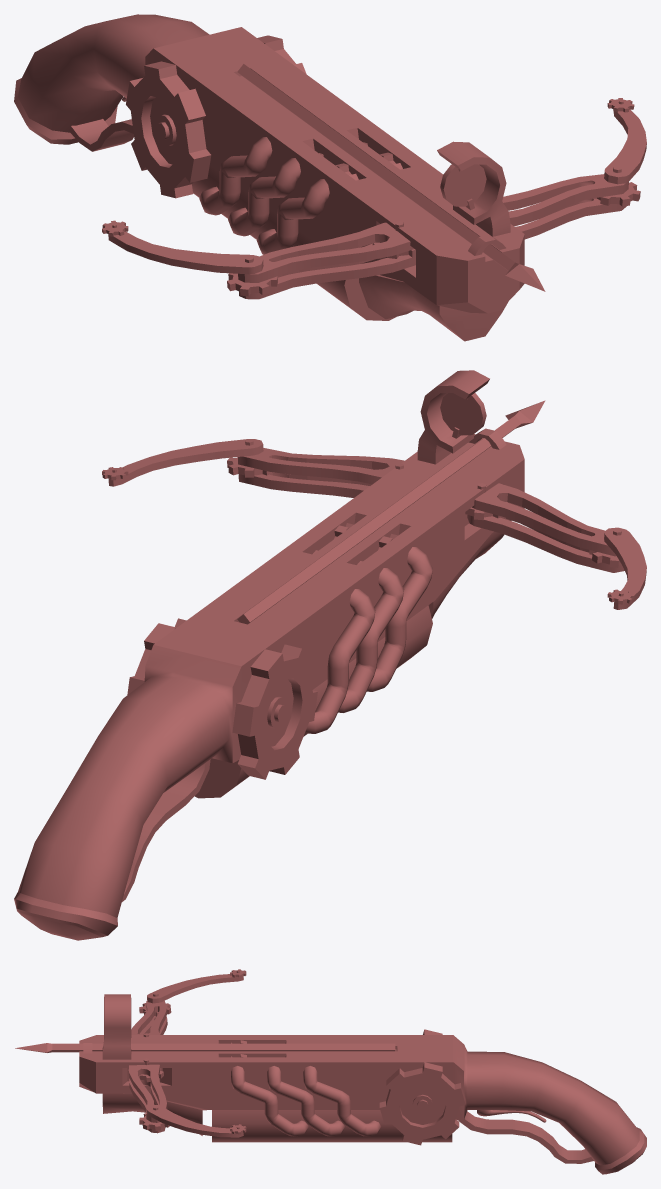
Rendered from crossbowUpdated.fbx.
3 views of the same model, one above another, from view 1: azimuth 30°, elevation 25°; view 2: azimuth 150°, elevation 25°; view 3: azimuth 270°, elevation 25° (orthographic). The views are drawn at different scales.
Parts seen in each view (by area): view 1: Crossbow:base_low, Crossbow:armgears_low, Crossbow:largegear_low, Crossbow:pipes_low, Crossbow:arrow_low, Crossbow:grip_low, Crossbow:scope_low, Crossbow:gastank_low, Crossbow:lens_low, Crossbow:handguard_low, Crossbow:handlerim_low; view 2: Crossbow:base_low, Crossbow:armgears_low, Crossbow:pipes_low, Crossbow:largegear_low, Crossbow:arrow_low, Crossbow:scope_low, Crossbow:gastank_low, Crossbow:handguard_low, Crossbow:handlerim_low, Crossbow:lens_low; view 3: Crossbow:base_low, Crossbow:armgears_low, Crossbow:largegear_low, Crossbow:pipes_low, Crossbow:gastank_low, Crossbow:arrow_low, Crossbow:handguard_low, Crossbow:scope_low, Crossbow:grip_low, Crossbow:handlerim_low, Crossbow:trigger_low.
Part boxes in pixels (x1=…): Crossbow:base_low: x1=18, y1=14, x2=524, y2=313; Crossbow:armgears_low: x1=102, y1=98, x2=646, y2=299; Crossbow:largegear_low: x1=126, y1=35, x2=306, y2=198; Crossbow:pipes_low: x1=199, y1=137, x2=329, y2=254; Crossbow:arrow_low: x1=237, y1=64, x2=545, y2=291; Crossbow:grip_low: x1=359, y1=275, x2=508, y2=341; Crossbow:scope_low: x1=437, y1=141, x2=510, y2=236; Crossbow:gastank_low: x1=192, y1=165, x2=395, y2=320; Crossbow:lens_low: x1=440, y1=164, x2=486, y2=206; Crossbow:handguard_low: x1=68, y1=119, x2=134, y2=151; Crossbow:handlerim_low: x1=14, y1=78, x2=117, y2=144; Crossbow:base_low: x1=18, y1=428, x2=524, y2=940; Crossbow:armgears_low: x1=102, y1=439, x2=646, y2=722; Crossbow:pipes_low: x1=305, y1=547, x2=432, y2=733; Crossbow:largegear_low: x1=127, y1=618, x2=317, y2=779; Crossbow:arrow_low: x1=237, y1=400, x2=545, y2=624; Crossbow:scope_low: x1=417, y1=370, x2=489, y2=464; Crossbow:gastank_low: x1=195, y1=605, x2=432, y2=798; Crossbow:handguard_low: x1=122, y1=759, x2=210, y2=901; Crossbow:handlerim_low: x1=14, y1=892, x2=117, y2=936; Crossbow:lens_low: x1=440, y1=393, x2=486, y2=435; Crossbow:base_low: x1=79, y1=1035, x2=639, y2=1165; Crossbow:armgears_low: x1=128, y1=969, x2=428, y2=1137; Crossbow:largegear_low: x1=379, y1=1029, x2=465, y2=1145; Crossbow:pipes_low: x1=231, y1=1066, x2=380, y2=1136; Crossbow:gastank_low: x1=212, y1=1110, x2=452, y2=1142; Crossbow:arrow_low: x1=15, y1=1043, x2=395, y2=1052; Crossbow:handguard_low: x1=458, y1=1111, x2=593, y2=1163; Crossbow:scope_low: x1=102, y1=994, x2=131, y2=1059; Crossbow:grip_low: x1=102, y1=1093, x2=202, y2=1135; Crossbow:handlerim_low: x1=595, y1=1127, x2=646, y2=1174; Crossbow:trigger_low: x1=477, y1=1110, x2=546, y2=1122.
Size of the model in its own units: 6 by 2.94 by 9.85.
